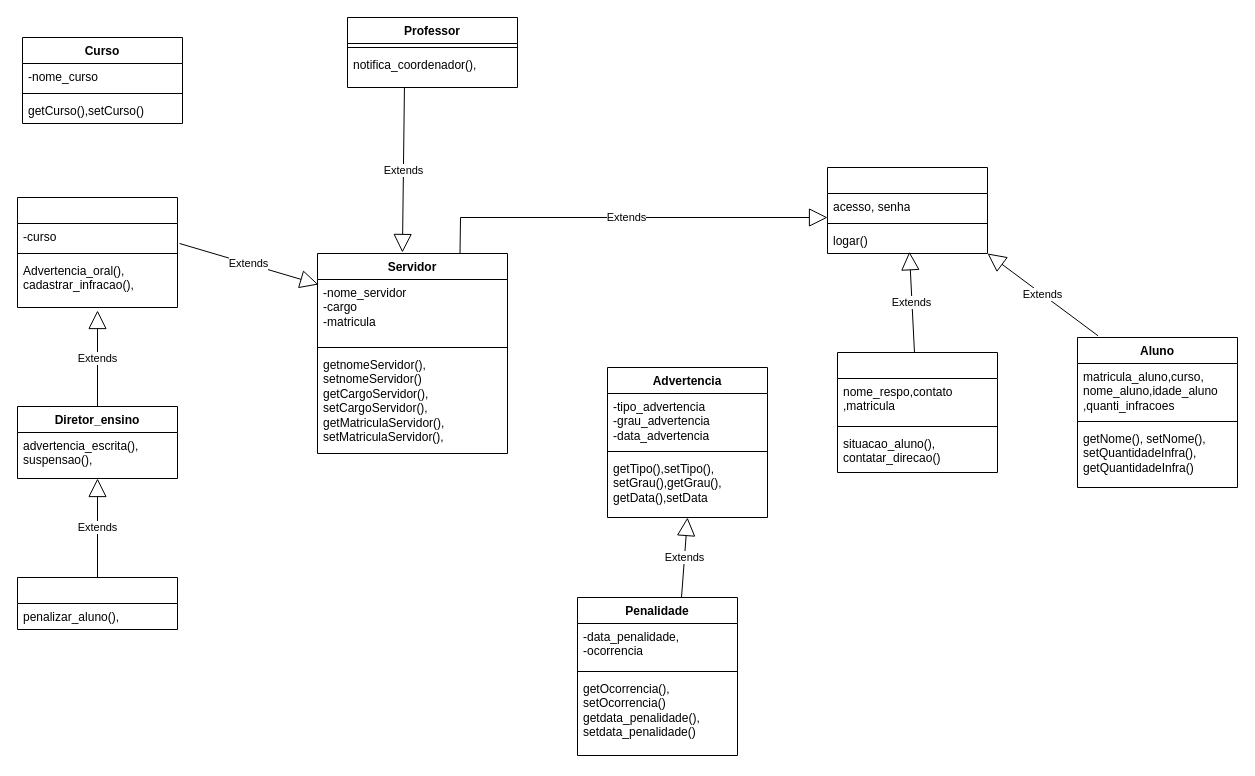
This 1255x776 diagram has some shape labels left out. Here are the shapes that lost their labels. From the top down, the box of each, then its label:
(826, 166, 988, 254): Usuario
(16, 196, 178, 308): Coordenador
(836, 352, 998, 472): Responsavel
(16, 576, 178, 630): Diretor_geral
